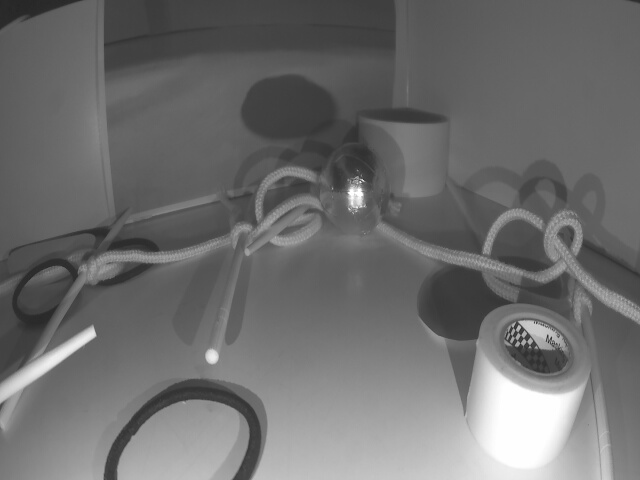Live: (319, 144, 390, 236)
